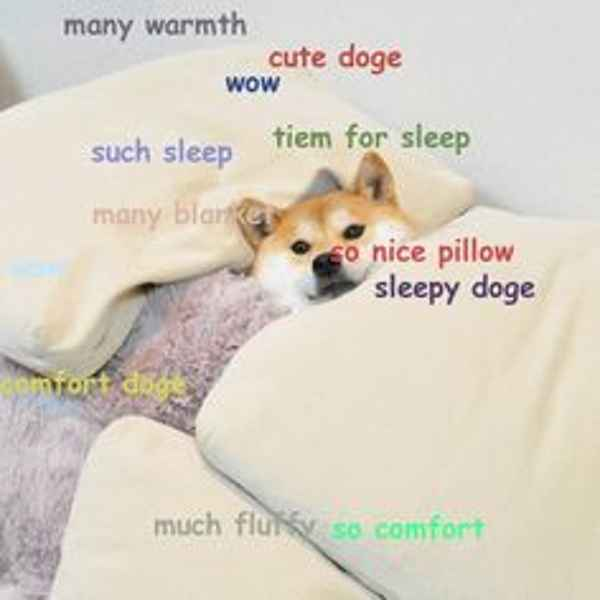doge: (236, 175, 409, 318)
